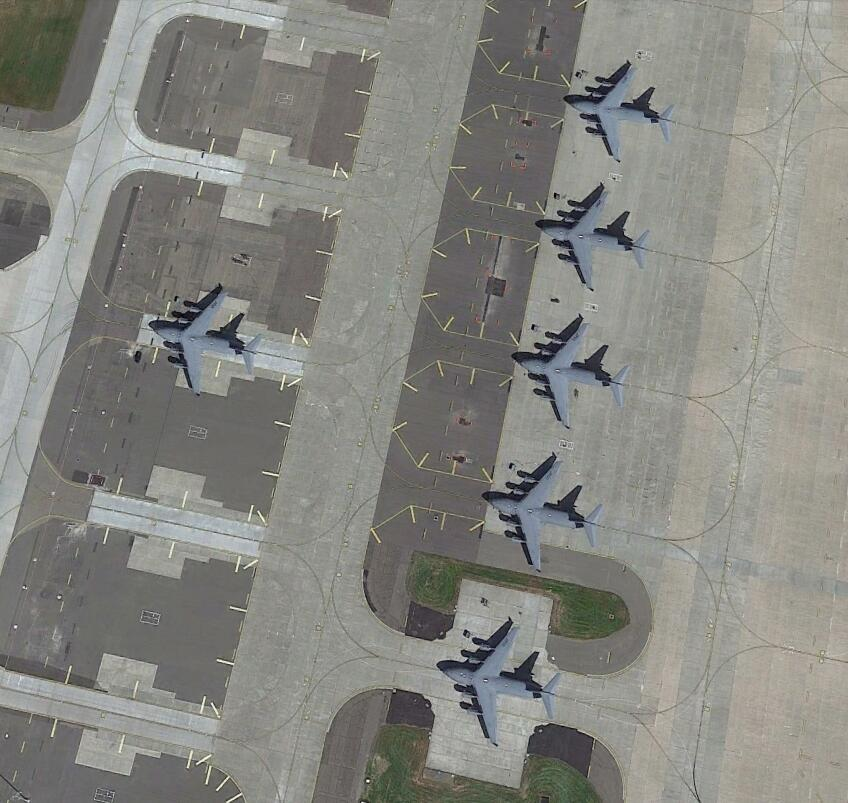A3: (438, 620, 563, 745), (485, 456, 605, 573), (513, 322, 632, 430), (148, 293, 262, 394), (536, 188, 650, 288), (569, 61, 677, 165)
